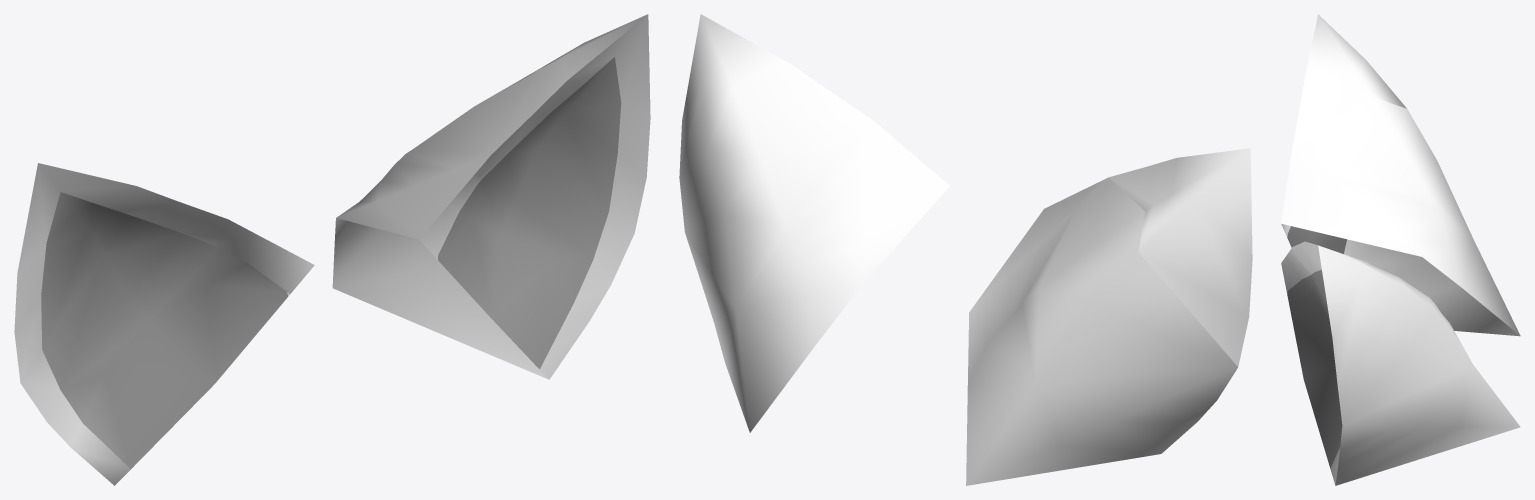
Rendered from hat_6.glb.
3 views of the same model, side by side, from view 1: azimuth 30°, elevation 25°; view 2: azimuth 150°, elevation 25°; view 3: azimuth 270°, elevation 25° (orthographic). The views are drawn at different scales.
Visible parts, largest first — view 1: head_cat.002, head_cat.001; view 2: head_cat.001, head_cat.002; view 3: head_cat.001, head_cat.002.
Part boxes in pixels (x1=…): head_cat.002: x1=332, y1=14, x2=650, y2=379; head_cat.001: x1=14, y1=163, x2=314, y2=485; head_cat.001: x1=966, y1=148, x2=1252, y2=485; head_cat.002: x1=679, y1=14, x2=949, y2=432; head_cat.001: x1=1281, y1=14, x2=1520, y2=336; head_cat.002: x1=1281, y1=241, x2=1520, y2=485.
Size of the model in its own units: 71.84 by 38.23 by 30.32.
Materials: 1 (1 with a texture image).
